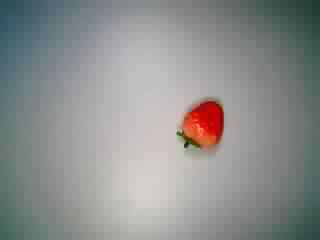strawberry: (161, 92, 229, 156)
